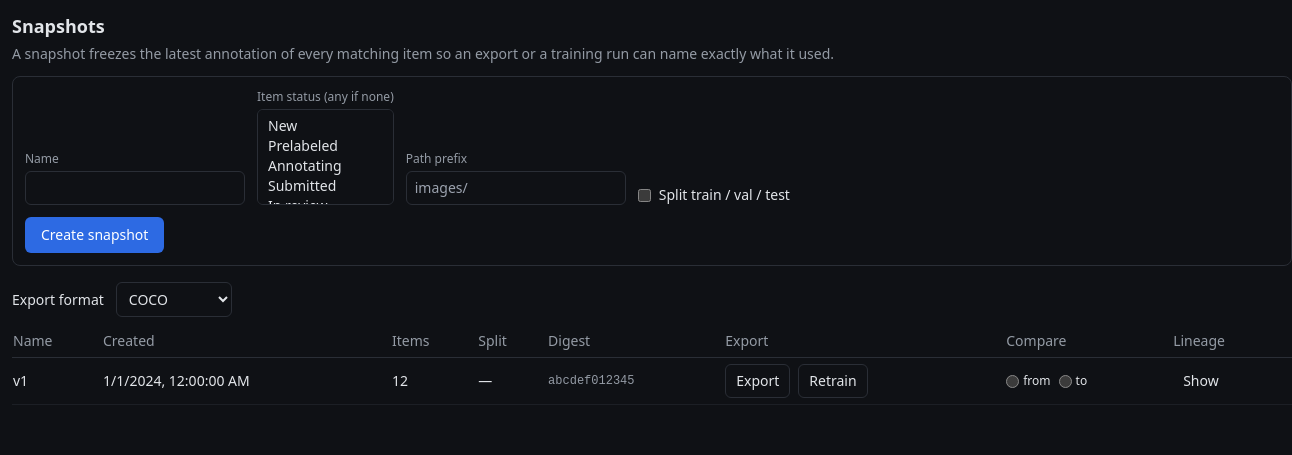
Test: SnapshotsPanel › explains an empty lineage
Click the button with aria-label "Lineage of v1" at (1201, 381), box [1173, 365, 1229, 397]
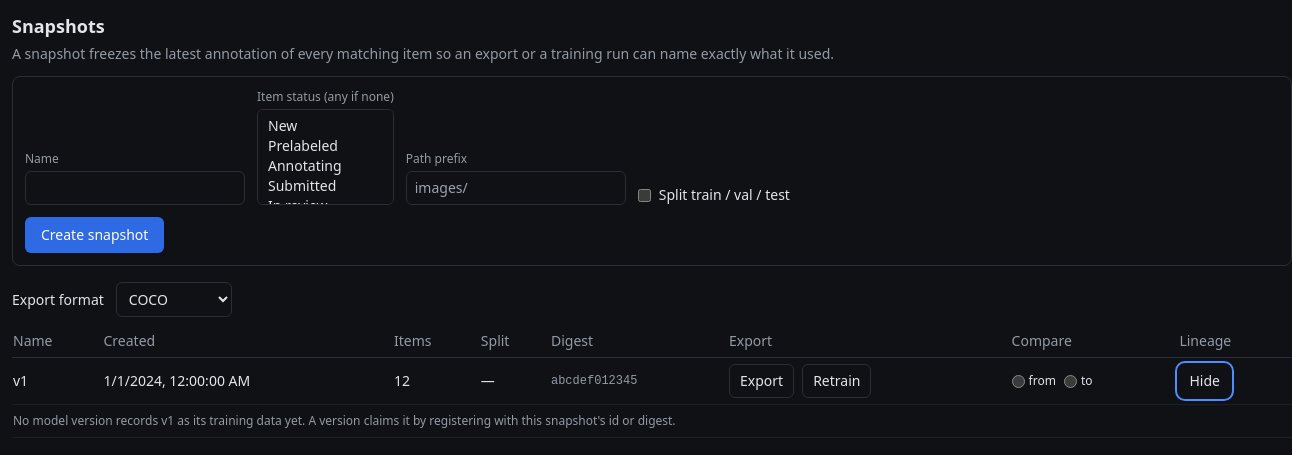
Check: the text with test id "lineage-s1" shows "No model version records v1 as its training data yet.", box [13, 412, 676, 429]
